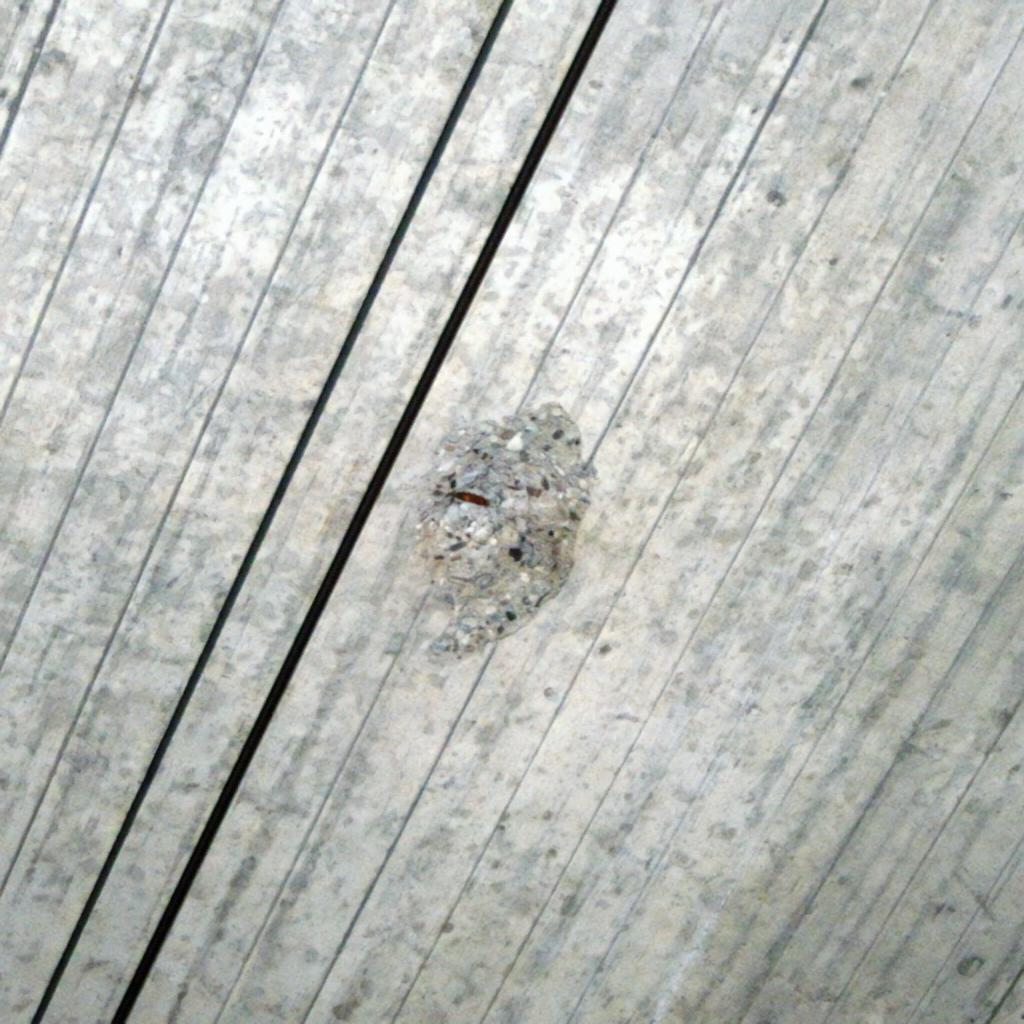exposed_rebar: (454, 493, 490, 505)
spalling: (416, 404, 596, 652)
